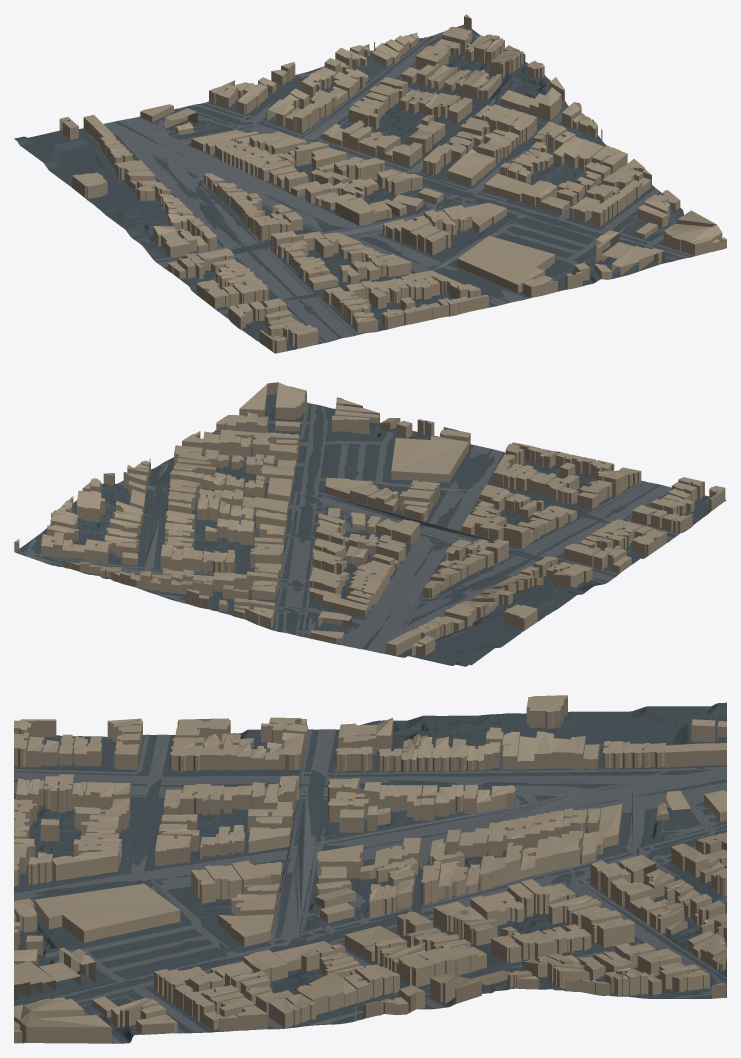
The model's file is epsg26910-1434-10878.lod0.glb.
3 views of the same model, one above another, from view 1: azimuth 30°, elevation 25°; view 2: azimuth 150°, elevation 25°; view 3: azimuth 270°, elevation 25° (orthographic). The views are drawn at different scales.
Parts seen in each view (by area): view 1: epsg26910-1434-10878-lod0; view 2: epsg26910-1434-10878-lod0; view 3: epsg26910-1434-10878-lod0.
Part boxes in pixels (left/top/right/bottom): epsg26910-1434-10878-lod0: left=14, top=14, right=726, bottom=353; epsg26910-1434-10878-lod0: left=14, top=382, right=726, bottom=666; epsg26910-1434-10878-lod0: left=14, top=695, right=726, bottom=1043.
Size of the model in its own units: 384 by 44.1 by 384.
